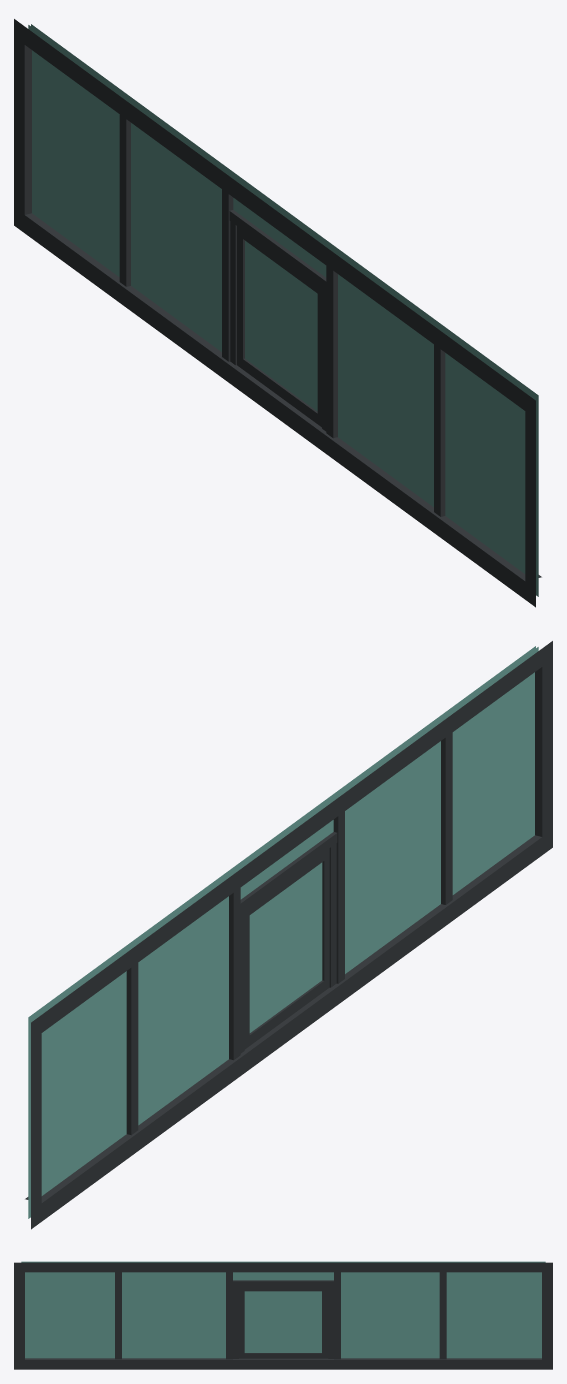
Rendered from Dock windows.fbx.
3 views of the same model, one above another, from view 1: azimuth 30°, elevation 25°; view 2: azimuth 150°, elevation 25°; view 3: azimuth 270°, elevation 25° (orthographic). The views are drawn at different scales.
Visible parts, largest first — view 1: pCube13; view 2: pCube13; view 3: pCube13.
Part boxes in pixels (box(x1,y1,x2,y2)): pCube13: box(14, 19, 541, 607); pCube13: box(25, 641, 552, 1229); pCube13: box(14, 1261, 552, 1369).
Bounding box in the file's own units: 30.19 × 350 × 1600.
